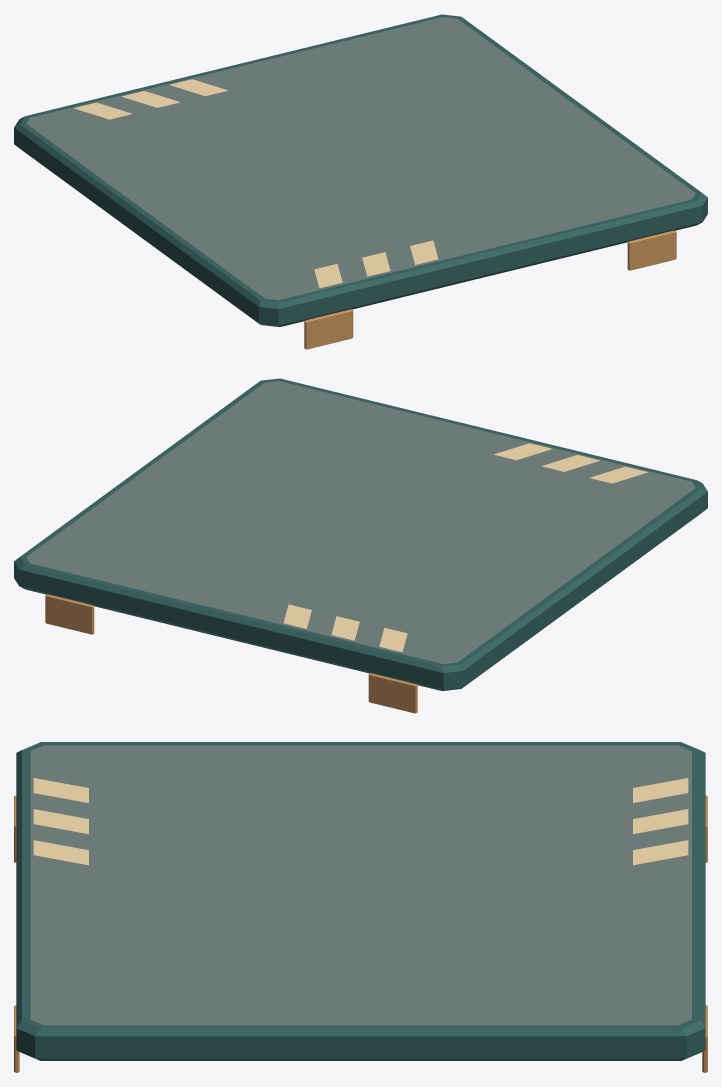
The model's file is DockCapMid.glb.
The picture shows the model from 3 angles, top to bottom: view 1: azimuth 30°, elevation 25°; view 2: azimuth 150°, elevation 25°; view 3: azimuth 270°, elevation 25°; orthographic projection. The views are drawn at different scales.
Visible parts, largest first — view 1: DockCapMid; view 2: DockCapMid; view 3: DockCapMid.
Boxes of the visible parts, x1,y1,x2,y2 form: DockCapMid: [14, 14, 707, 349]; DockCapMid: [14, 378, 707, 713]; DockCapMid: [14, 742, 707, 1072].
Size of the model in its own units: 1.5 by 0.1634 by 1.51.
